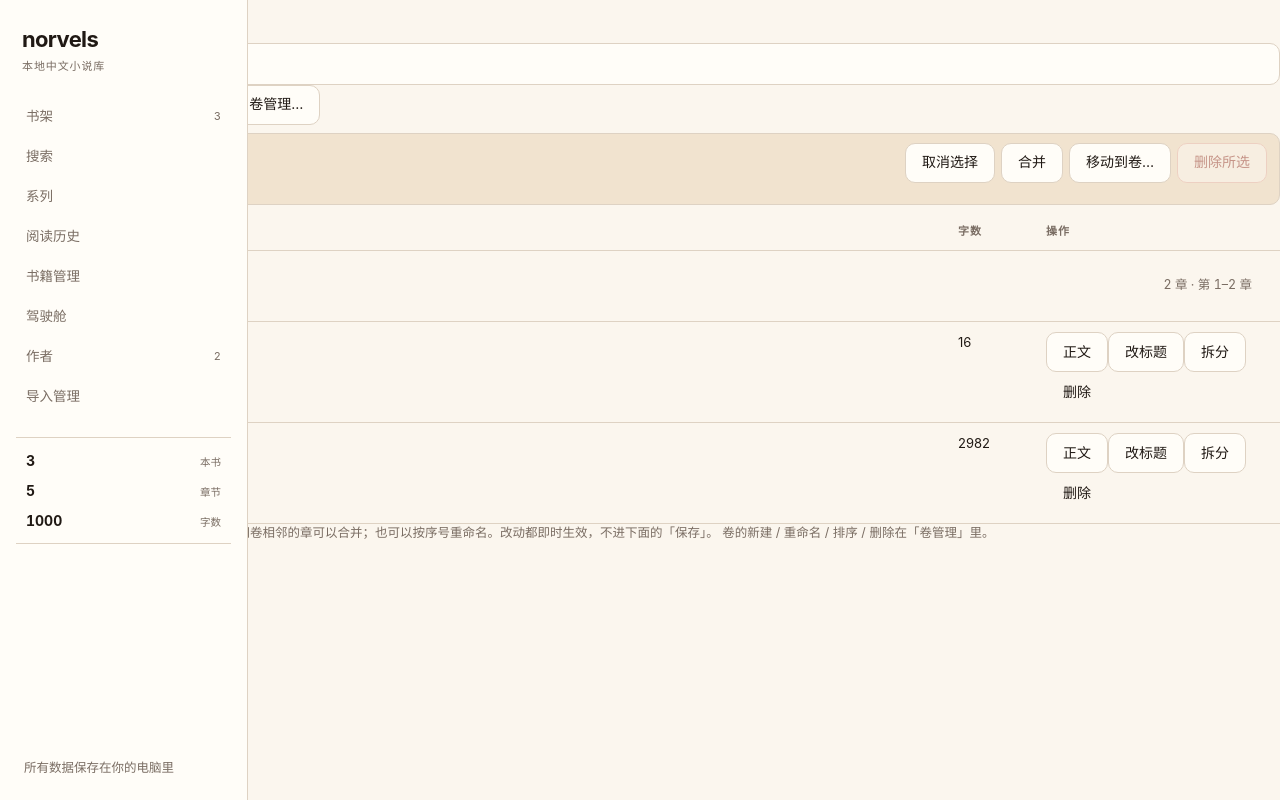
Scenario: 写操作成功后左栏统计重取 › 保存失败不重取（统计只跟成功的写操作走）
The width and height of the screenshot is (1280, 800).
expect the text "1000" is shown: met, box [26,510,62,531]
Click the button with test id "admin-chapter-body-10" at (1077,352), box [1046,332,1108,372]
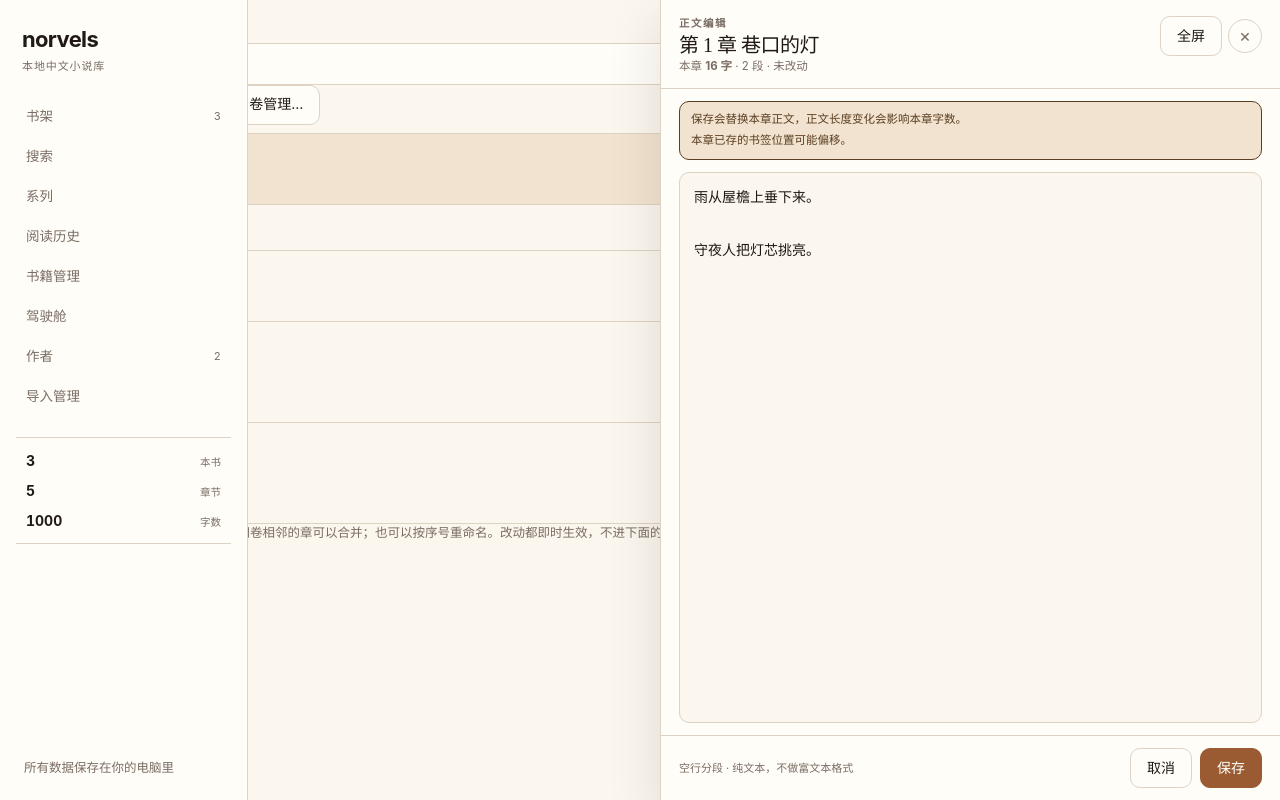
Replace the text in the text box with test id "chapter-body-input" with "改过的一版" at (970,448), box [679,172,1262,723]
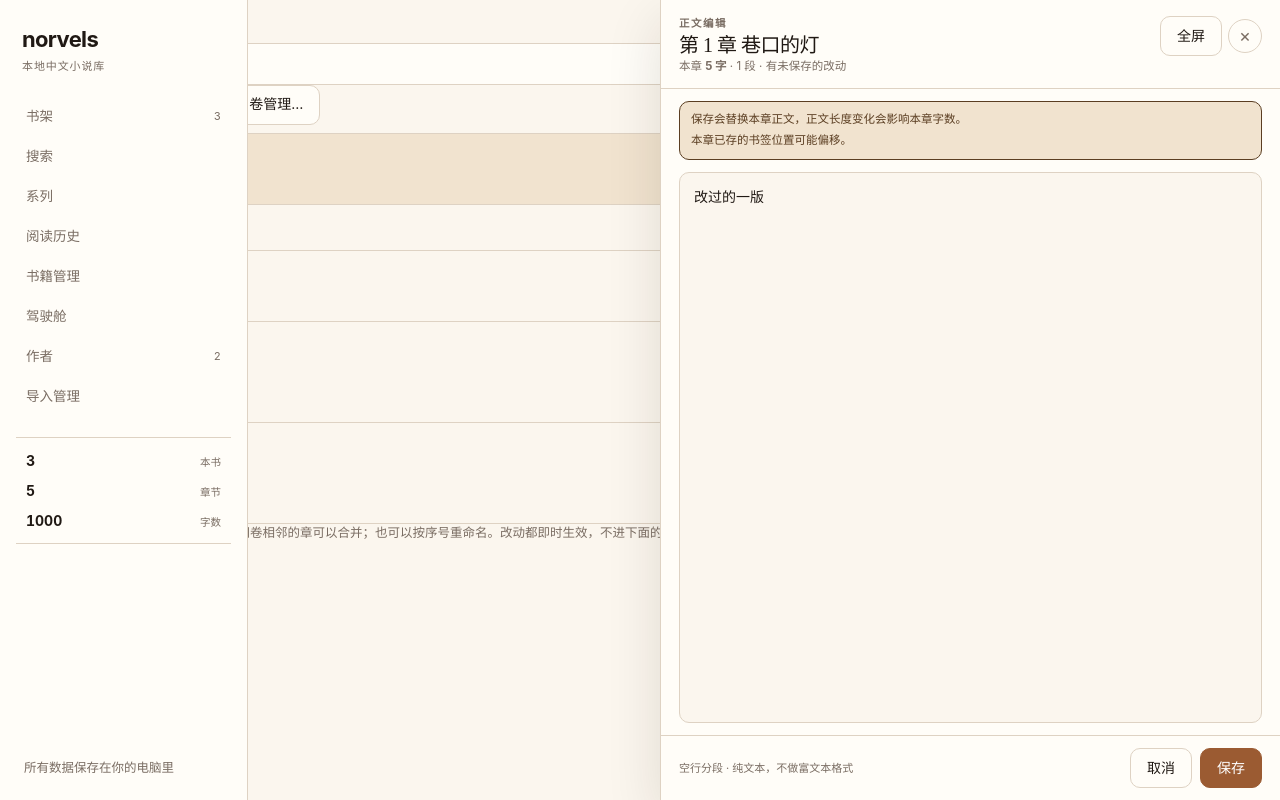
Click the button with test id "chapter-body-save" at (1231,768), box [1200,748,1262,788]
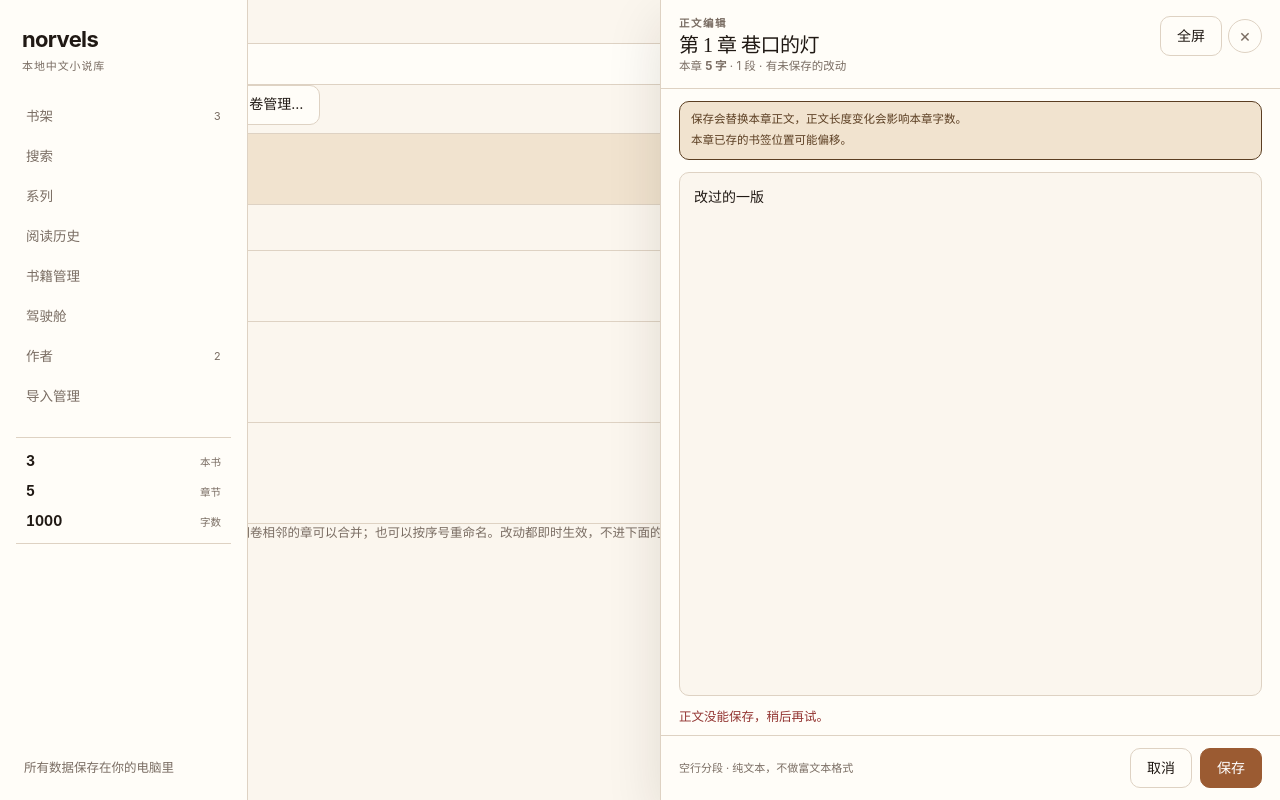
expect the text "1000" is shown: met, box [26,510,62,531]
expect the message "正文没能保存，稍后再试。" is shown: met, box [679,709,829,724]
